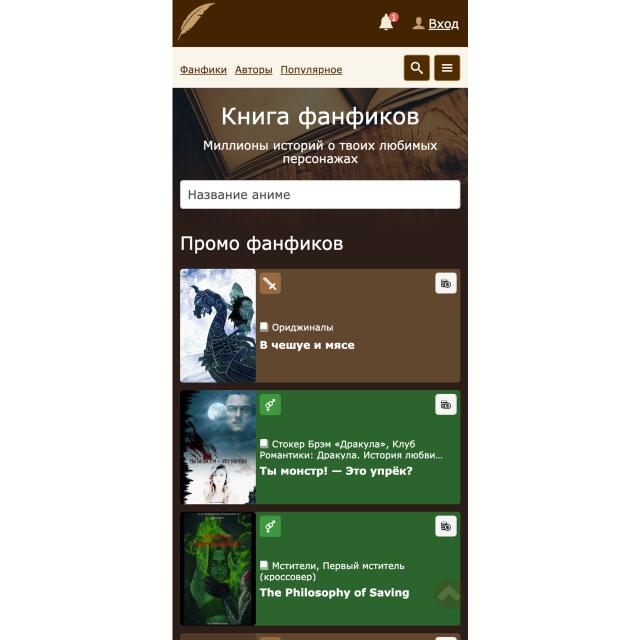input: (180, 180, 460, 209)
logo: (174, 1, 217, 44)
navigation: (178, 64, 342, 79), (441, 60, 454, 74)
